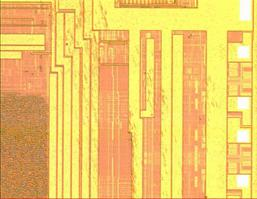SCRATCH: (31, 1, 236, 199)
